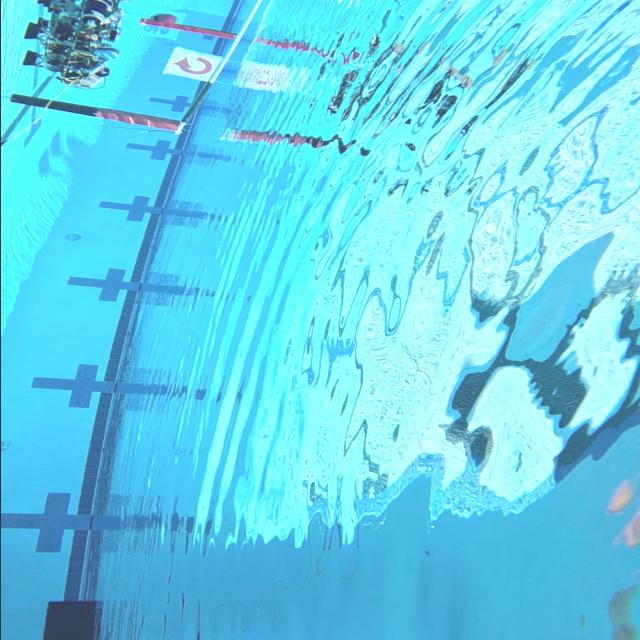red_side: (163, 50, 225, 81)
